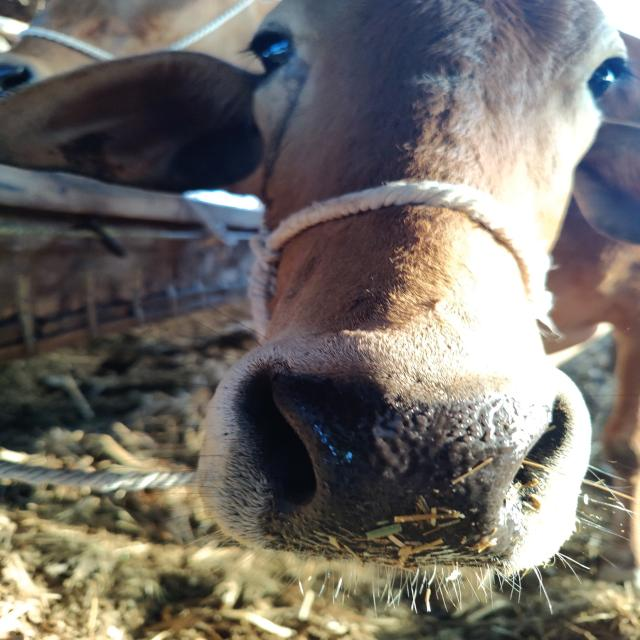muzzles: (228, 351, 570, 574)
